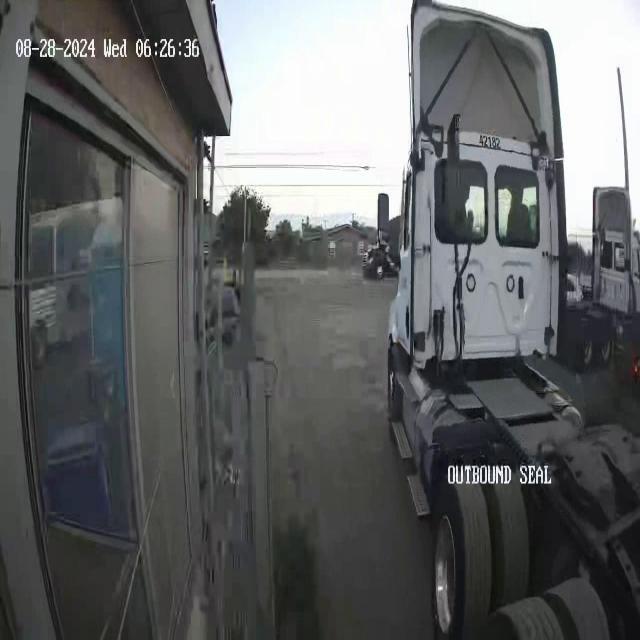BOBTAIL: (376, 2, 640, 640)
